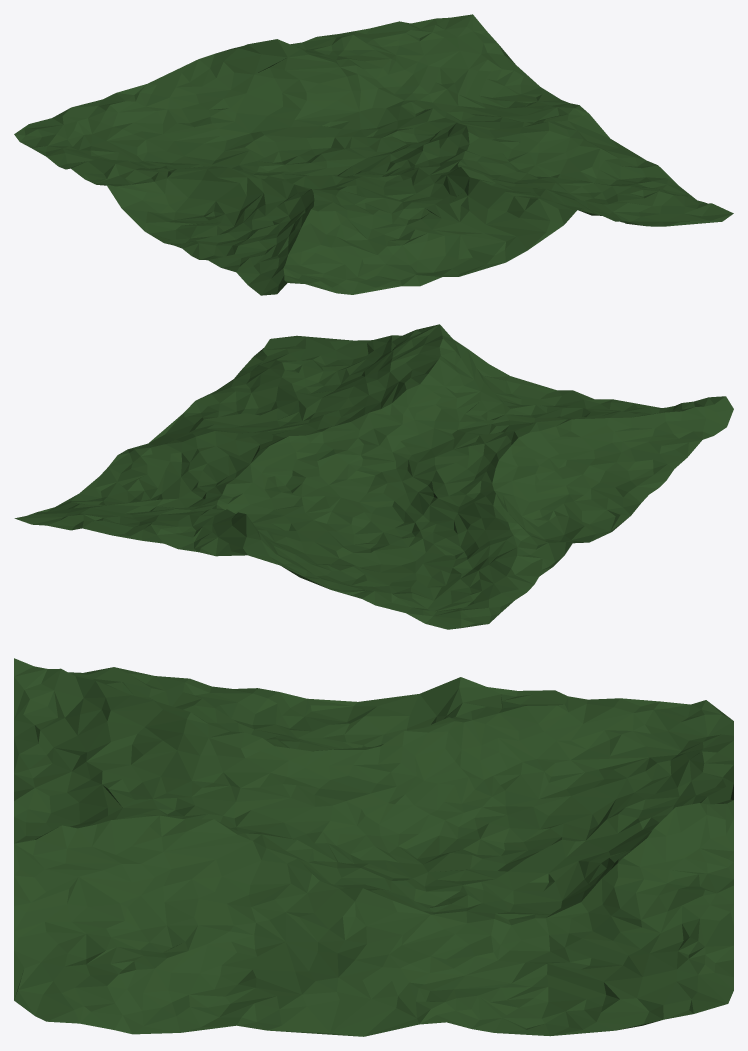
The model's file is SM_landscape_01.fbx.
The picture shows the model from 3 angles, top to bottom: view 1: azimuth 30°, elevation 25°; view 2: azimuth 150°, elevation 25°; view 3: azimuth 270°, elevation 25°; orthographic projection. The views are drawn at different scales.
Visible parts, largest first — view 1: landscape_01; view 2: landscape_01; view 3: landscape_01.
Part boxes in pixels (box(x1,y1,x2,y2)): landscape_01: box(14, 14, 733, 295); landscape_01: box(14, 324, 733, 629); landscape_01: box(14, 658, 733, 1036).
Size of the model in its own units: 2224 by 312 by 2224.
